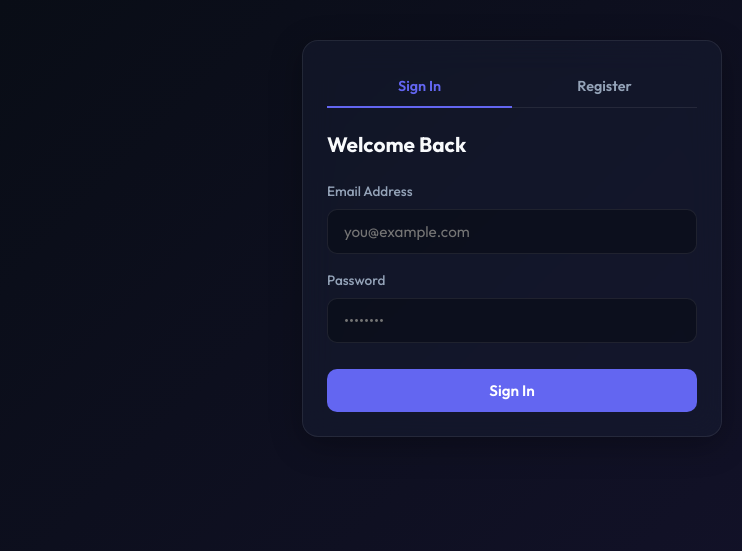
Test: Login Component › switches to Register form when the Register tab is clicked
Click the button "Register" at coordinates (604, 86), box [512, 65, 697, 107]
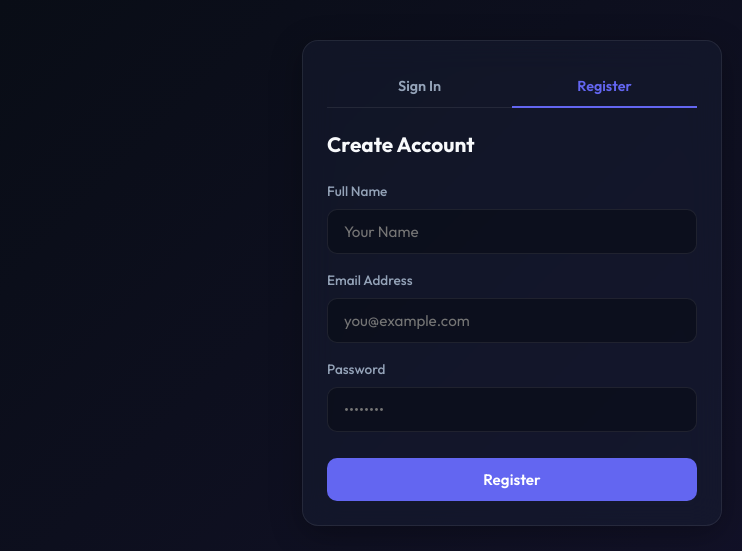
Expected: the field with placeholder "you@example.com" is shown, [327, 298, 697, 343]
Now the text "Create Account" is shown, box [327, 131, 475, 157]
Now the field with placeholder "Your Name" is shown, box [327, 209, 697, 254]
